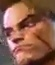kevin: (0, 0, 50, 62)
